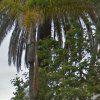Palm tree: (11, 5, 76, 95)
